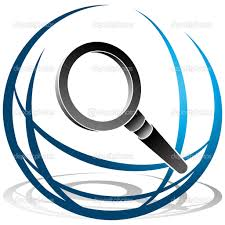searchIcon: (55, 39, 190, 176)
